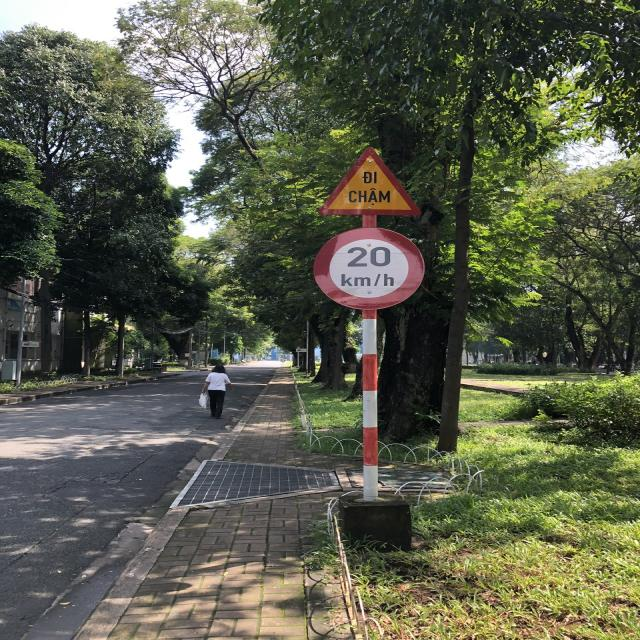Bien bao di cham: (316, 140, 428, 221)
Bien bao toc do toi da cho phep: (311, 223, 430, 311)
